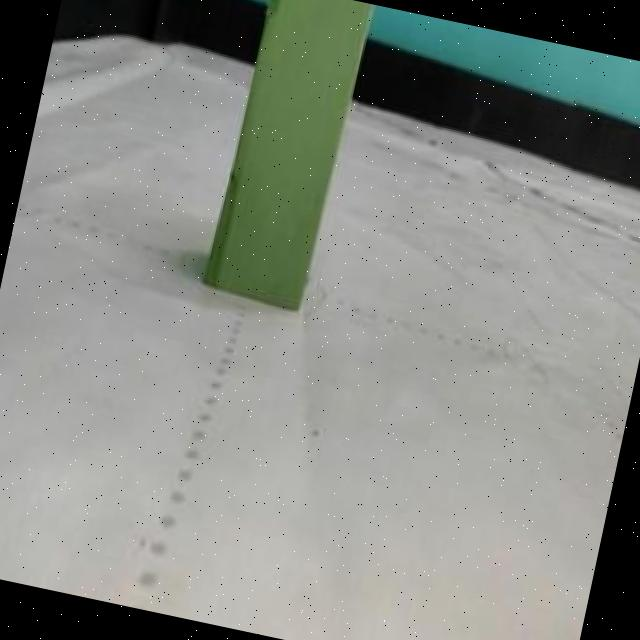greenbox: (199, 0, 382, 319)
